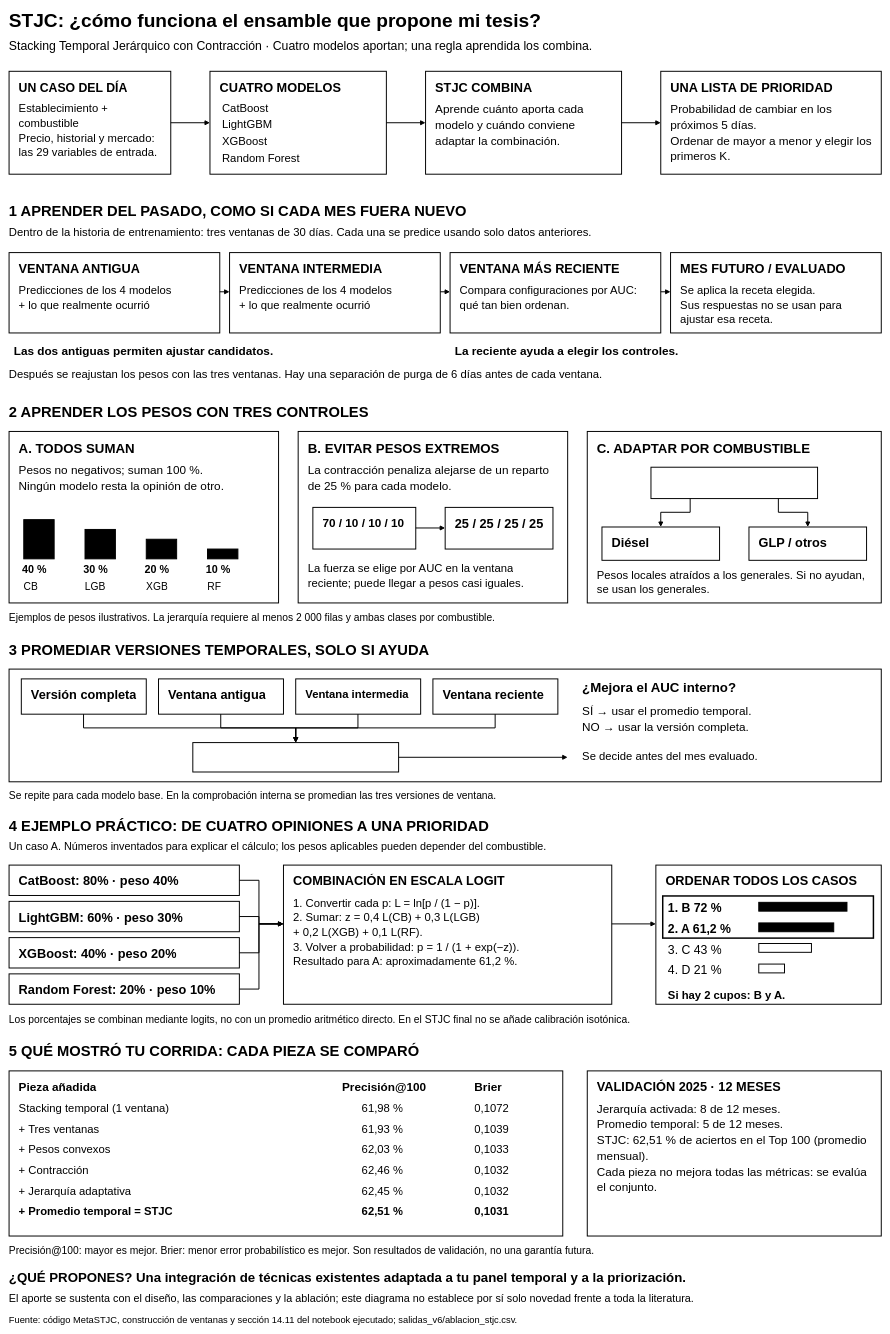
This 890x1334 diagram has some shape labels left out. Each missing label, with the centre of its shape:
PESOS GENERALES: the point at 734,482
PROMEDIO DE PROBABILIDADES: the point at 295,757
